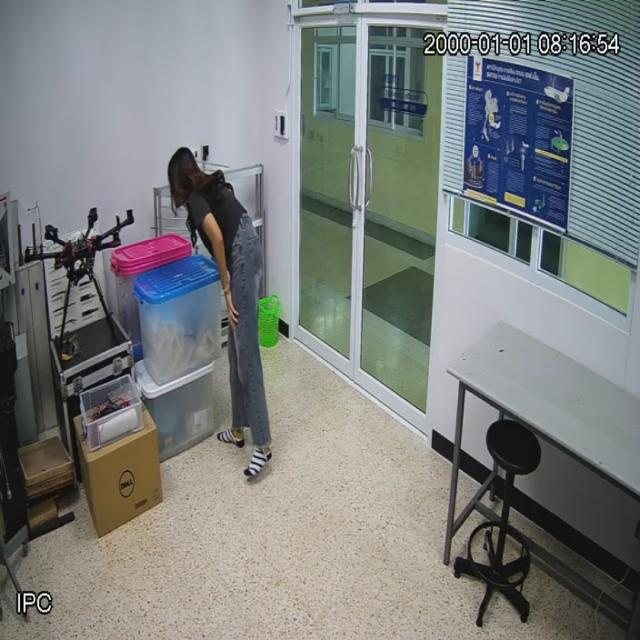normal: (165, 139, 276, 489)
